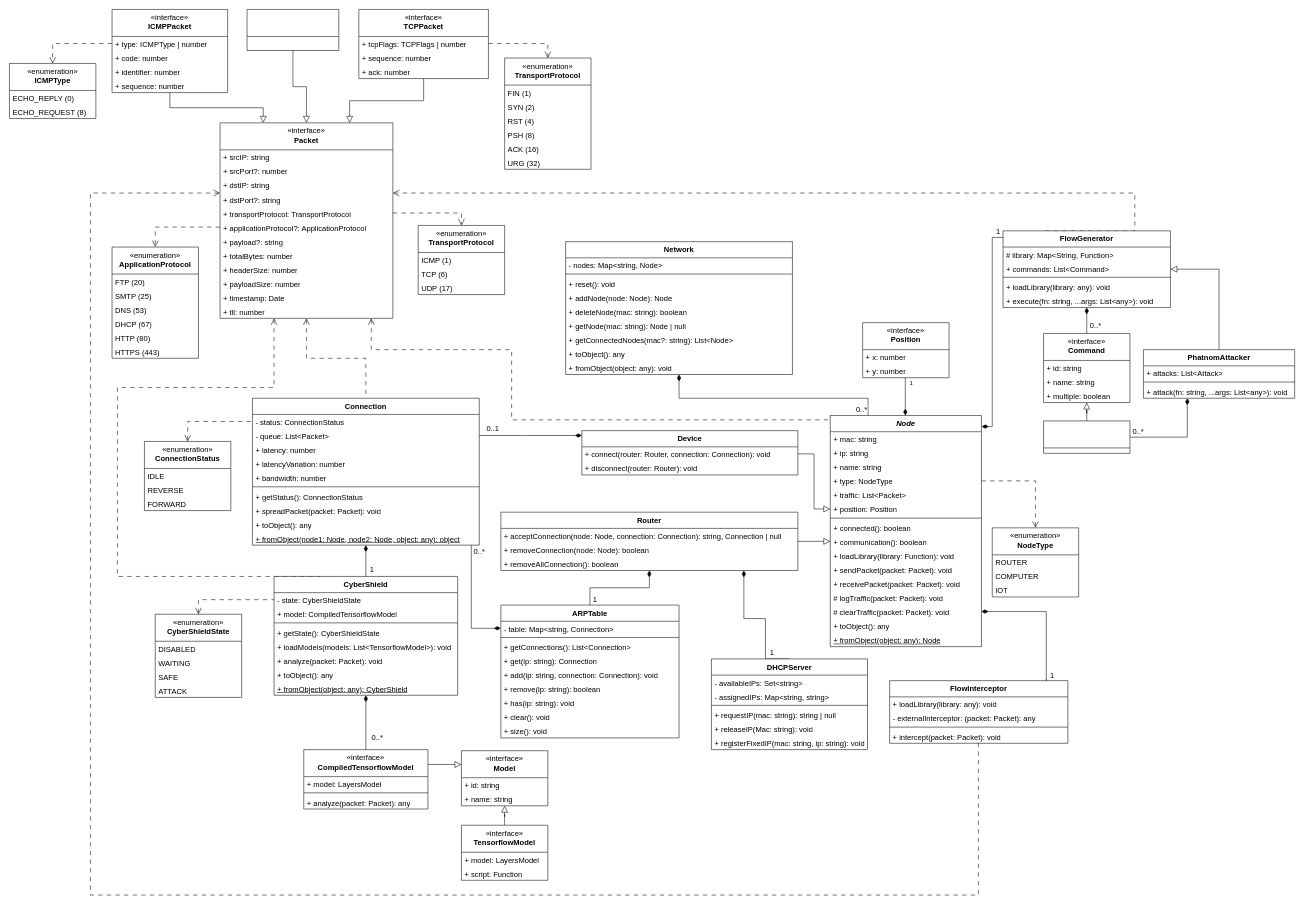
The diagram is 1304 pixels wide and 911 high, and some of its shapes have lost their labels. Each missing label, with the centre of its shape:
"«interface» Attack" goes at pixel 1086 436.
"«interface» UDPPacket" goes at pixel 293 29.
